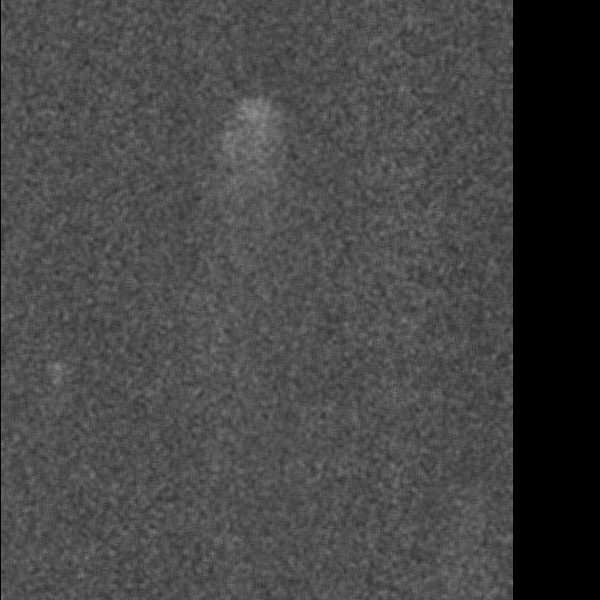spark: (242, 93, 272, 202), (44, 356, 63, 399)
